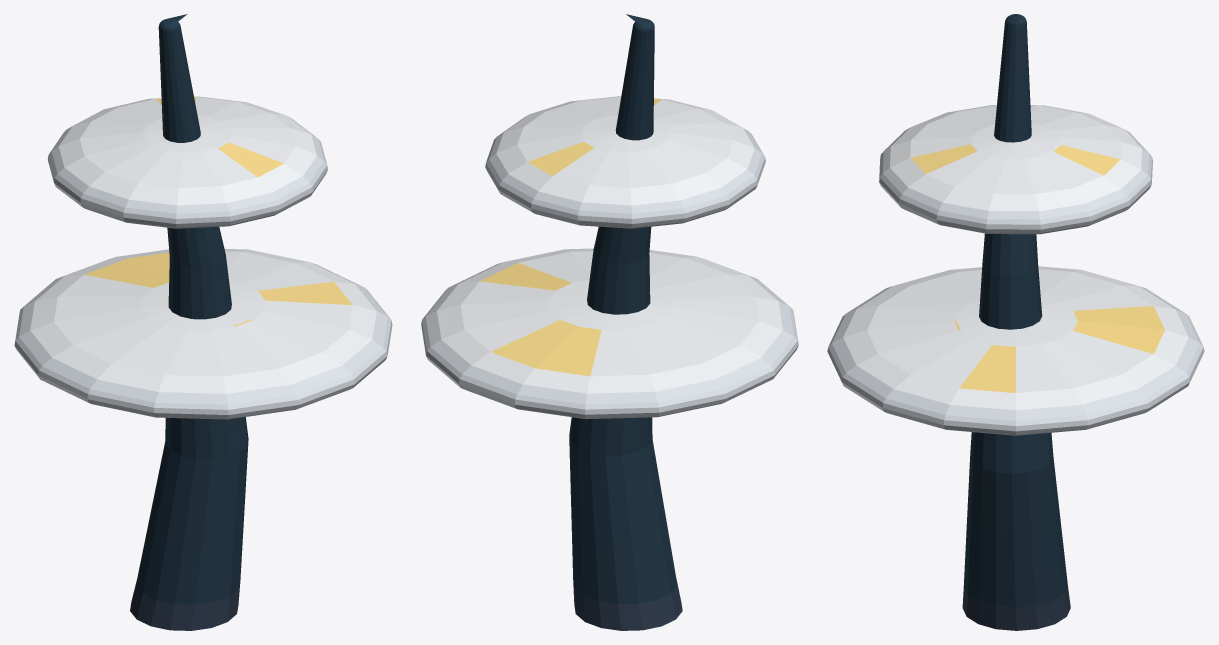
Rendered from StarwoodTreeFar.obj.
3 views of the same model, side by side, from view 1: azimuth 30°, elevation 25°; view 2: azimuth 150°, elevation 25°; view 3: azimuth 270°, elevation 25° (orthographic).
Bounding box in the file's own units: 6.34 × 10.89 × 6.34.
